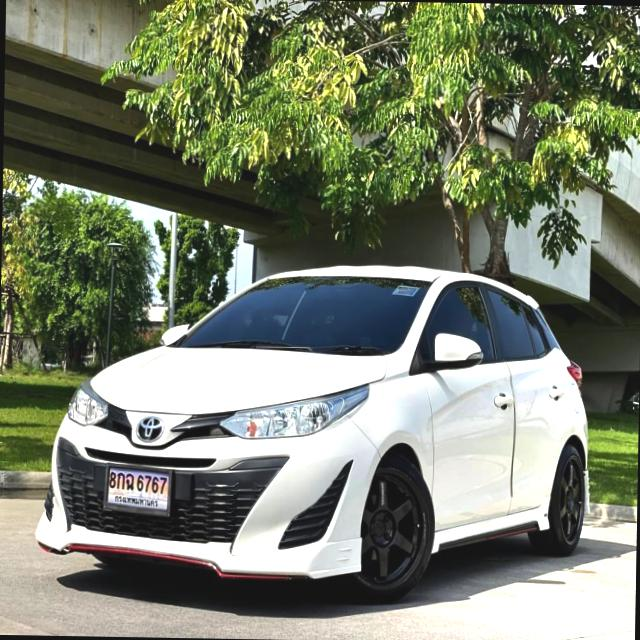license_plate: (102, 463, 175, 518)
